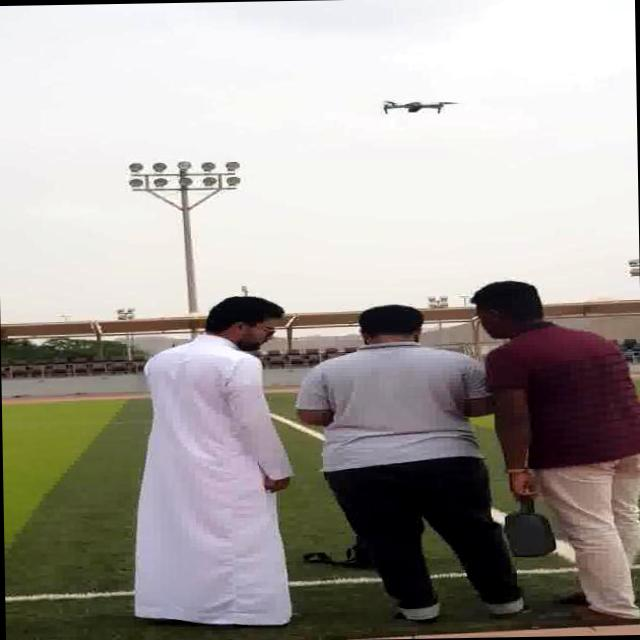drone: (381, 96, 456, 118)
